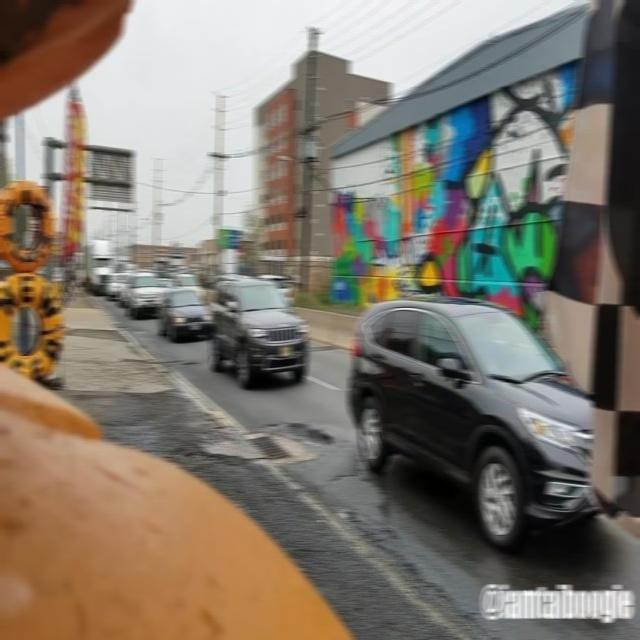Pothole: (209, 416, 335, 470)
